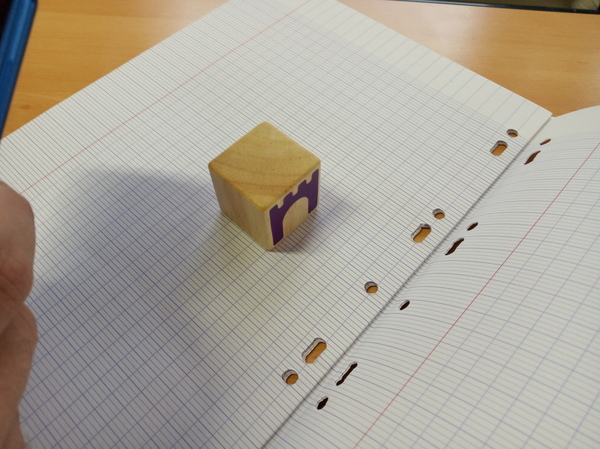violet: (213, 121, 322, 237)
